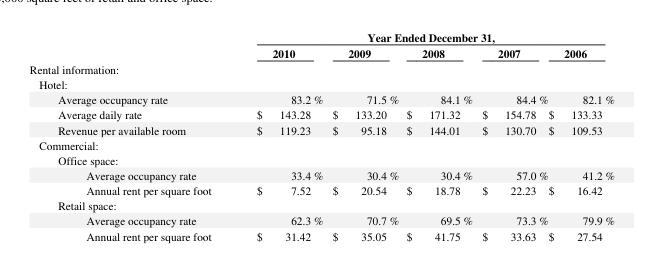table: (28, 29, 614, 242)
table column: (28, 29, 233, 242), (233, 29, 327, 242), (401, 29, 476, 242), (327, 29, 401, 242), (476, 29, 547, 242), (547, 29, 614, 242)
table column header: (28, 29, 614, 60)
table projected row header: (28, 60, 614, 76), (28, 151, 614, 167), (28, 76, 614, 91), (28, 136, 614, 151), (28, 197, 614, 212)
table row: (28, 29, 614, 45), (28, 60, 614, 76), (28, 151, 614, 167), (28, 45, 614, 60), (28, 76, 614, 91), (28, 91, 614, 106), (28, 106, 614, 121), (28, 121, 614, 136), (28, 136, 614, 151), (28, 167, 614, 182), (28, 182, 614, 197), (28, 197, 614, 212), (28, 212, 614, 227), (28, 227, 614, 242)
table spanning cell: (233, 29, 614, 45)
